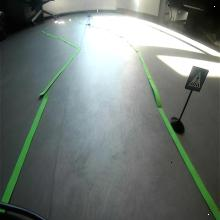crosswalk: (184, 65, 209, 93)
